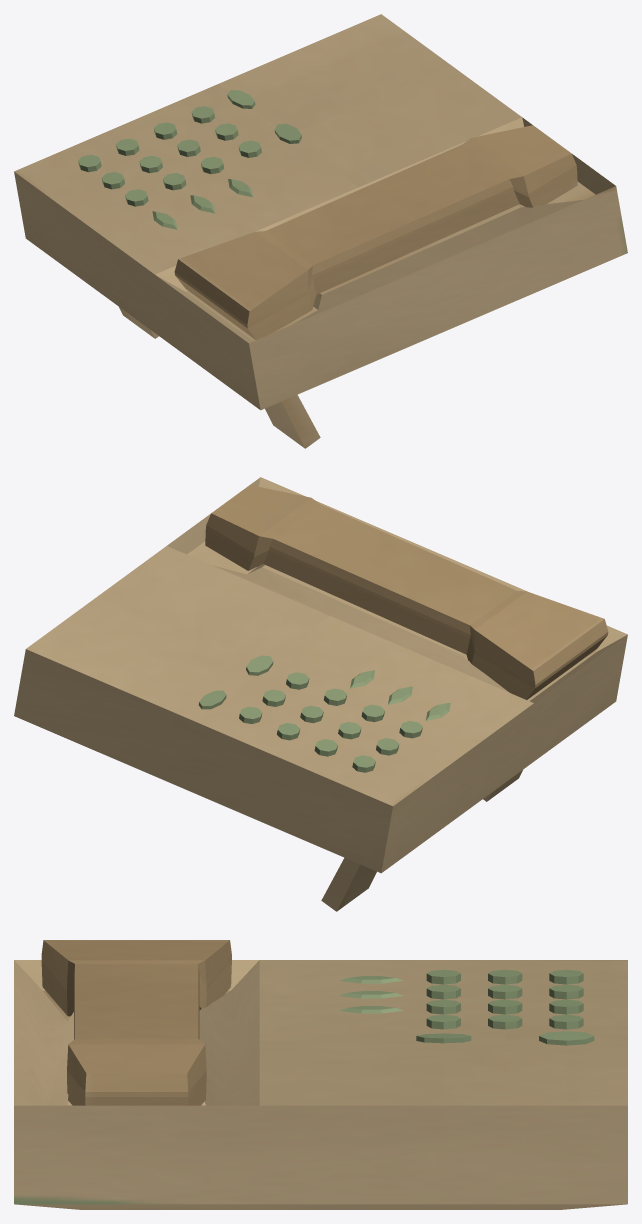
The model's file is telefon.fbx.
The picture shows the model from 3 angles, top to bottom: view 1: azimuth 30°, elevation 25°; view 2: azimuth 150°, elevation 25°; view 3: azimuth 270°, elevation 25°; orthographic projection. The views are drawn at different scales.
Parts seen in each view (by area): view 1: Telefon; view 2: Telefon; view 3: Telefon.
Boxes of the visible parts, x1,y1,x2,y2 form: Telefon: [14, 14, 627, 448]; Telefon: [14, 477, 627, 911]; Telefon: [14, 940, 627, 1209].
Bounding box in the file's own units: 89.44 × 51.66 × 96.
Materials: 1 (1 with a texture image).
